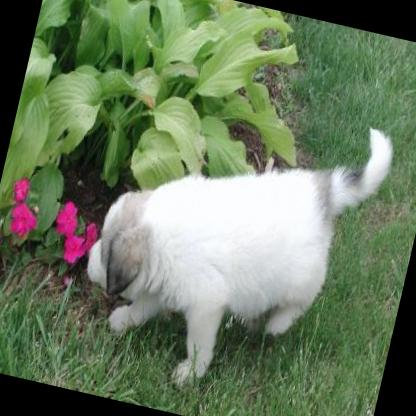Great_Pyrenees: (54, 66, 398, 416)
